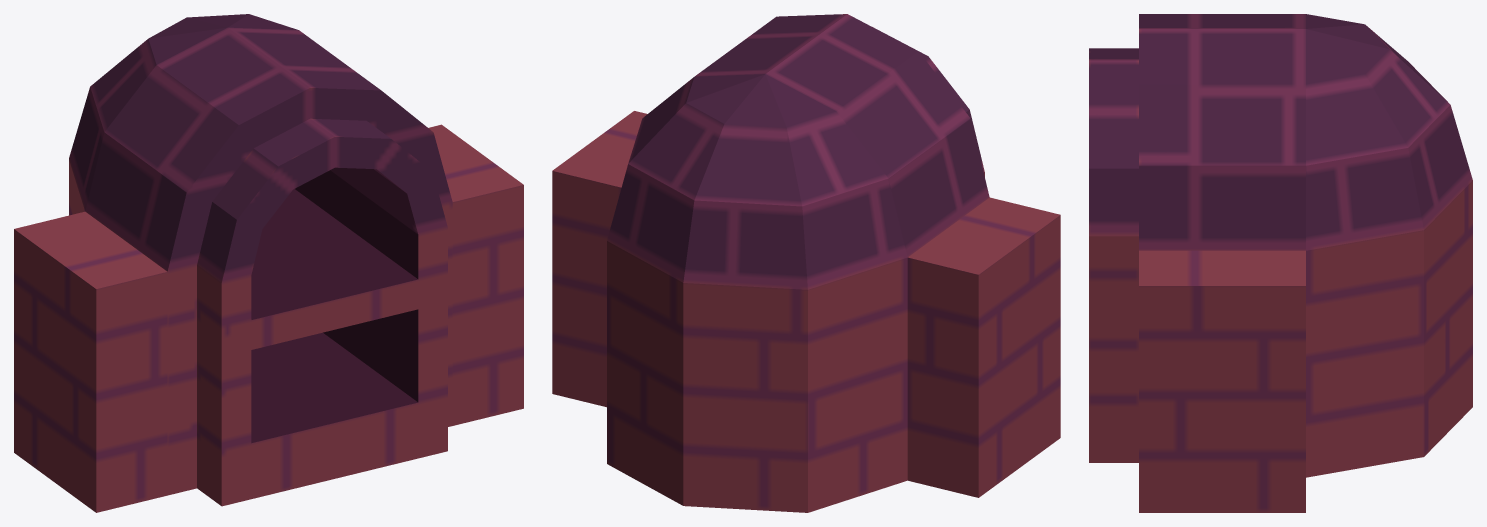
The model's file is Furnace.fbx.
3 renders of one model, left to right at view 1: azimuth 30°, elevation 25°; view 2: azimuth 150°, elevation 25°; view 3: azimuth 270°, elevation 25°, orthographic.
Parts seen in each view (by area): view 1: Furnace; view 2: Furnace; view 3: Furnace.
Part boxes in pixels (x1,y1,x2,y2): Furnace: (14, 14, 523, 512); Furnace: (552, 14, 1060, 512); Furnace: (1089, 14, 1472, 512).
Size of the model in its own units: 1.44 by 1.2 by 1.1.
Materials: 1 (1 with a texture image).
